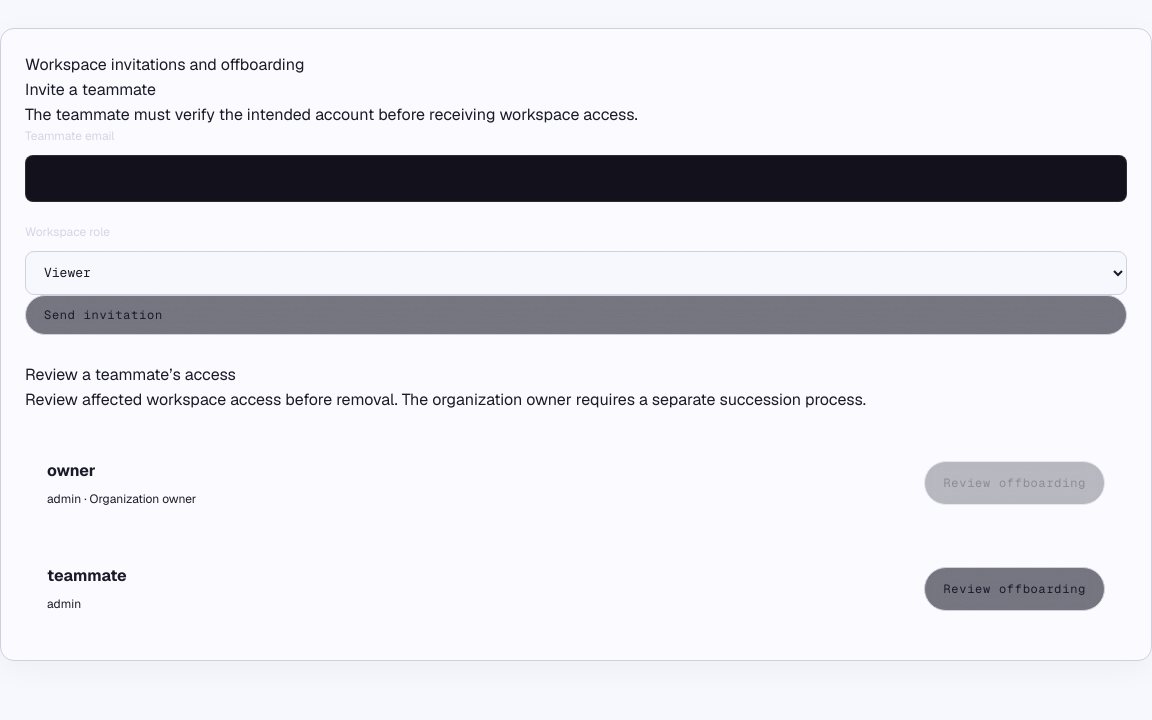
requires a fresh review when affected inventory changes and never refreshes membership on rejection
Expected: the button "Review offboarding" in the row of "· Organization owner" is disabled, [924,462,1105,506]
Click the 2nd button "Review offboarding" at (1015, 589), box [924,567,1105,611]
(page scrolled)
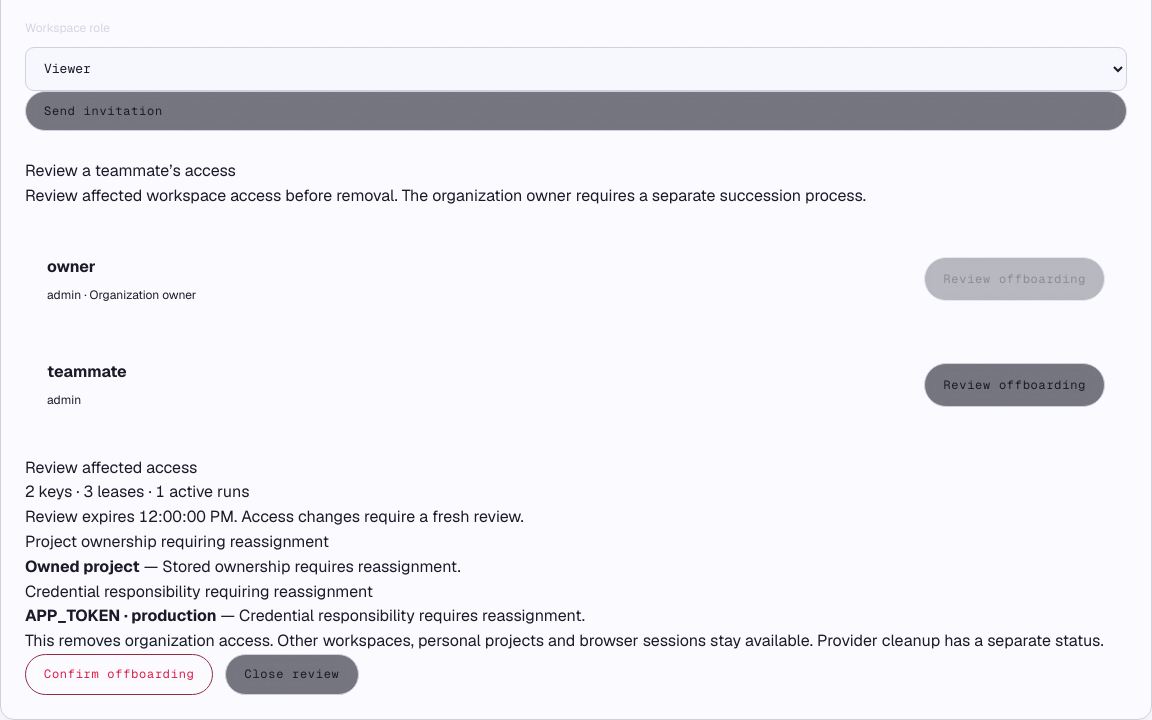
Expected: the heading "Review affected access" is shown, [25,456,197,478]
Click the button "Confirm offboarding" at (119, 674), box [25,654,214,694]
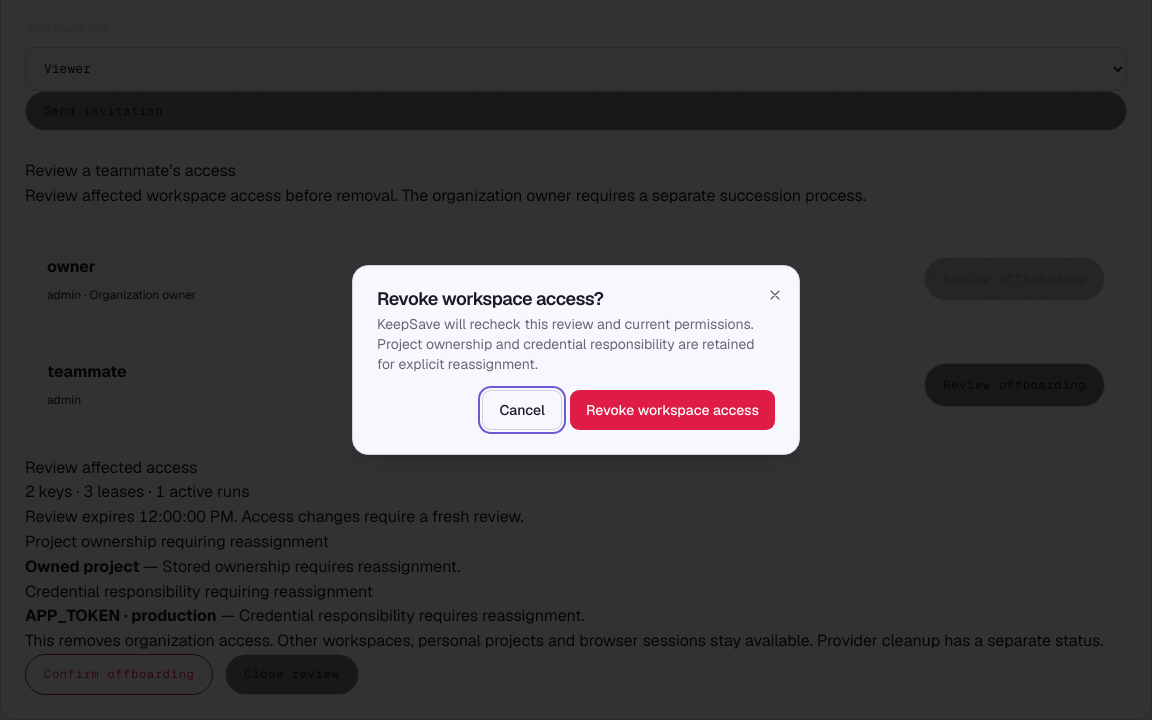
Click the button "Revoke workspace access" at (672, 410), box [570,390,775,430]
(page scrolled)
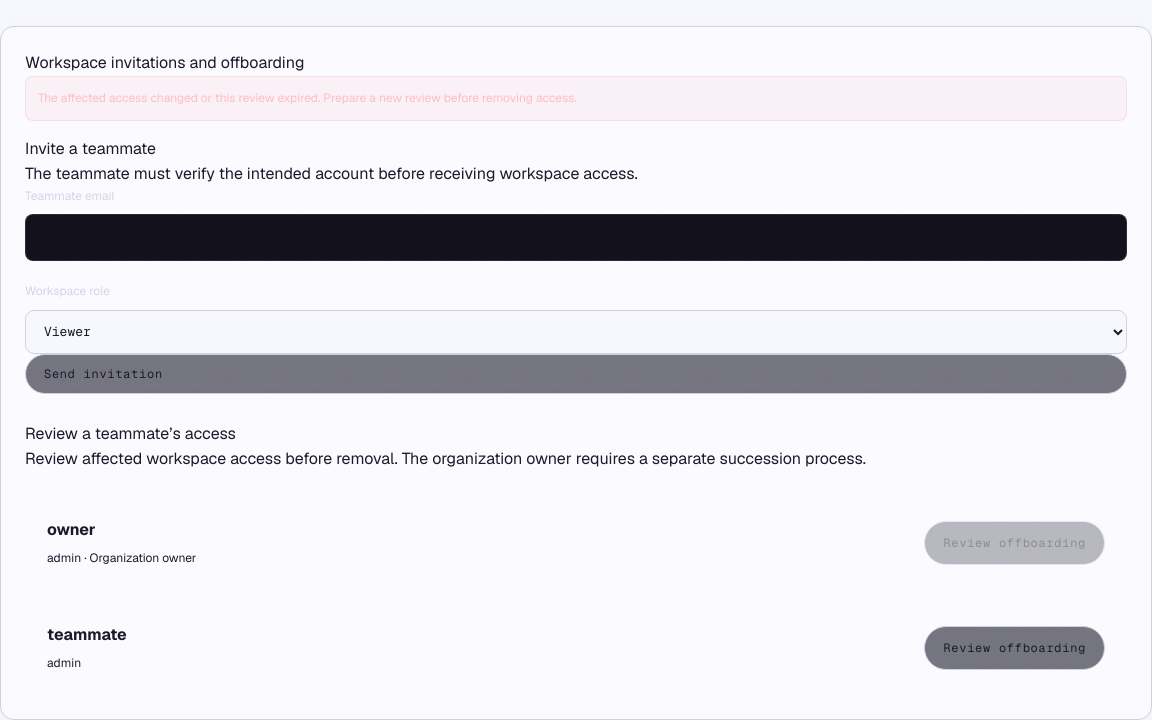
Expected: the message shows "Prepare a new review", [38,90,577,106]
Expected: the heading "Review affected access" is gone
